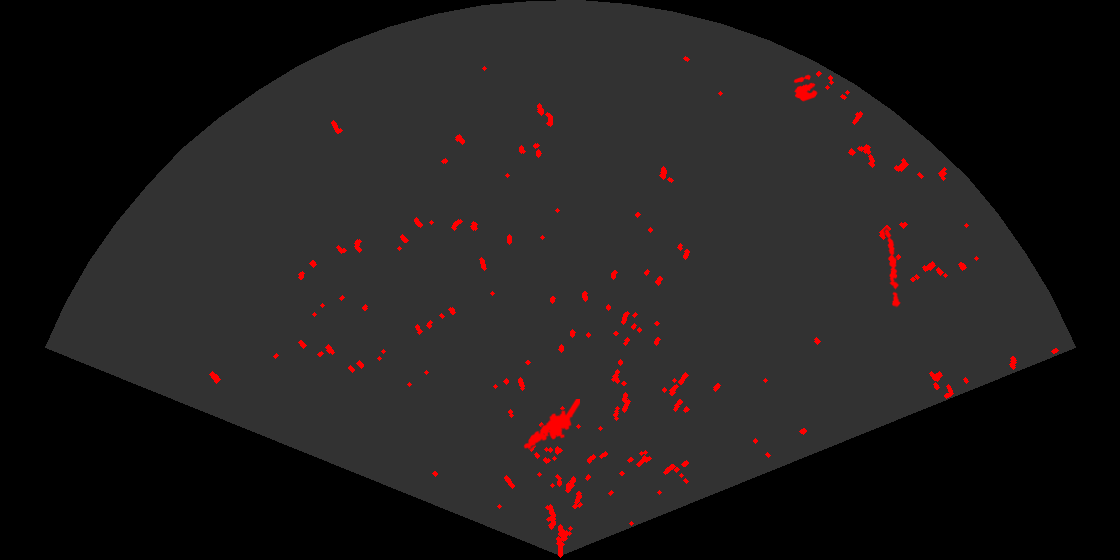ball: (792, 73, 820, 103)
chain: (883, 227, 902, 308)
frogman: (522, 399, 580, 451)
